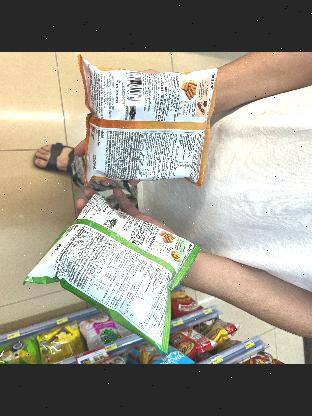Others: (20, 190, 194, 356), (76, 59, 222, 193)
